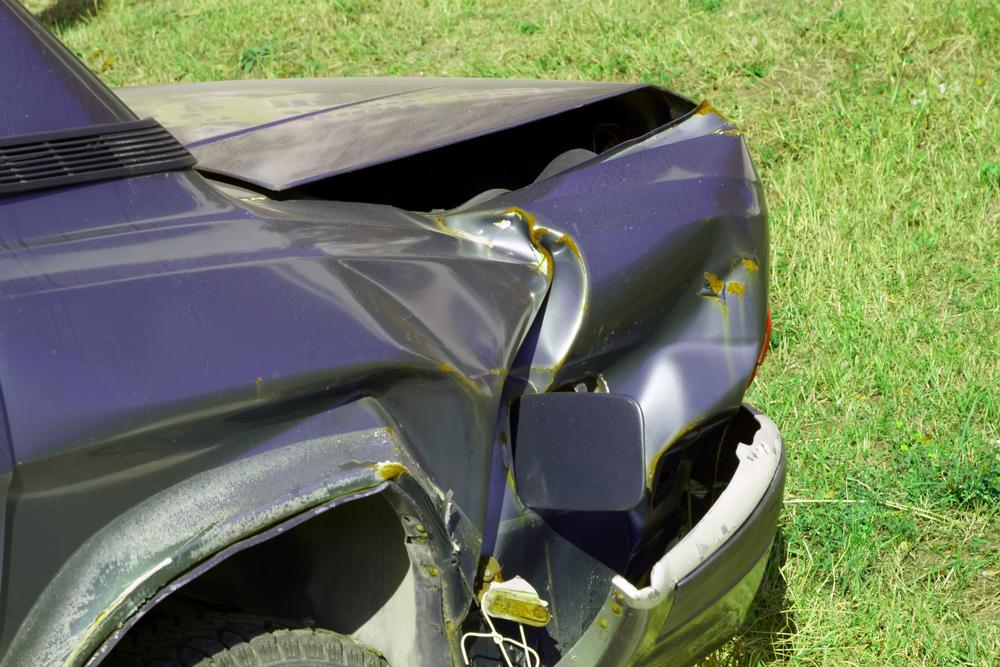dent: (335, 209, 768, 569)
